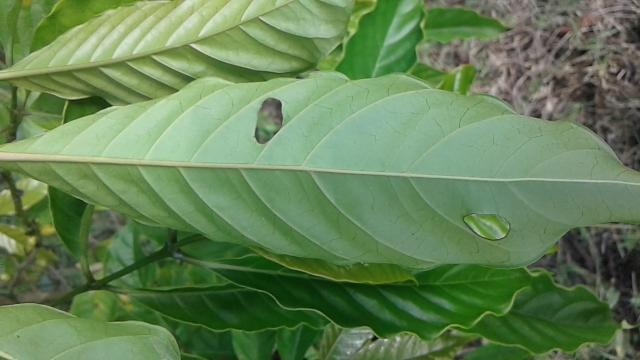healthy: (1, 73, 640, 270)
